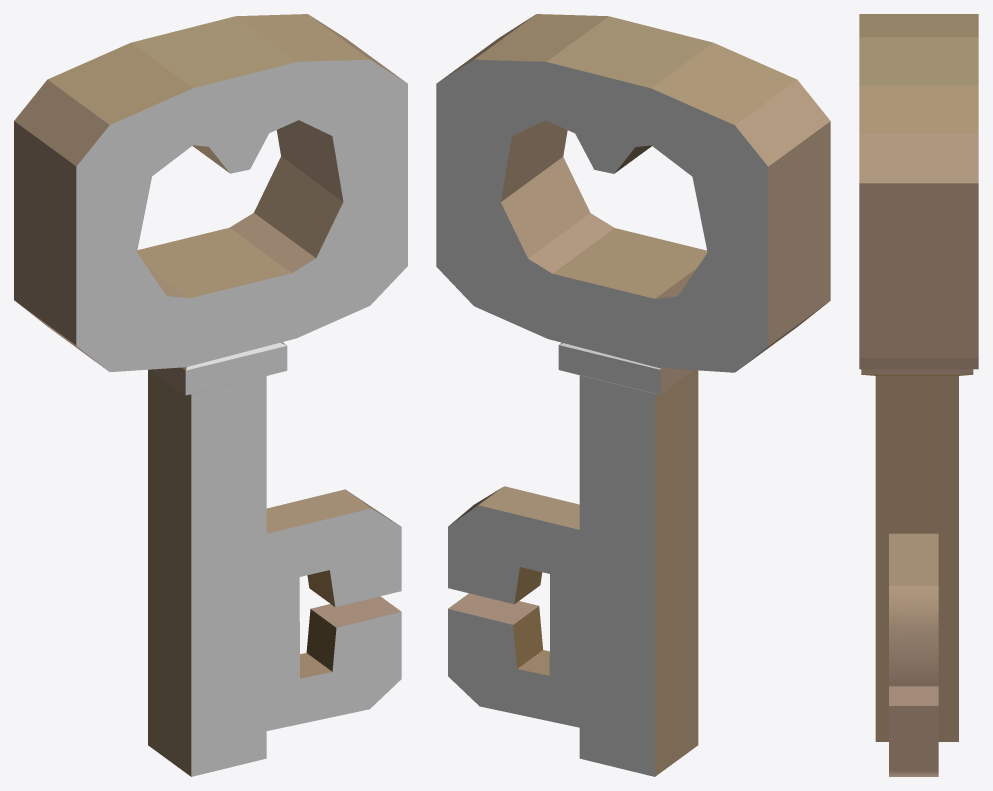
Rendered from keyGold.glb.
The picture shows the model from 3 angles, left to right: view 1: azimuth 30°, elevation 25°; view 2: azimuth 150°, elevation 25°; view 3: azimuth 270°, elevation 25°; orthographic projection. The views are drawn at different scales.
Parts seen in each view (by area): view 1: keyGold; view 2: keyGold; view 3: keyGold.
Boxes of the visible parts, bbox=[...] form: keyGold: bbox=[14, 14, 407, 776]; keyGold: bbox=[436, 14, 830, 776]; keyGold: bbox=[859, 14, 978, 776].
Size of the model in its own units: 0.2503 by 0.4896 by 0.0793.
